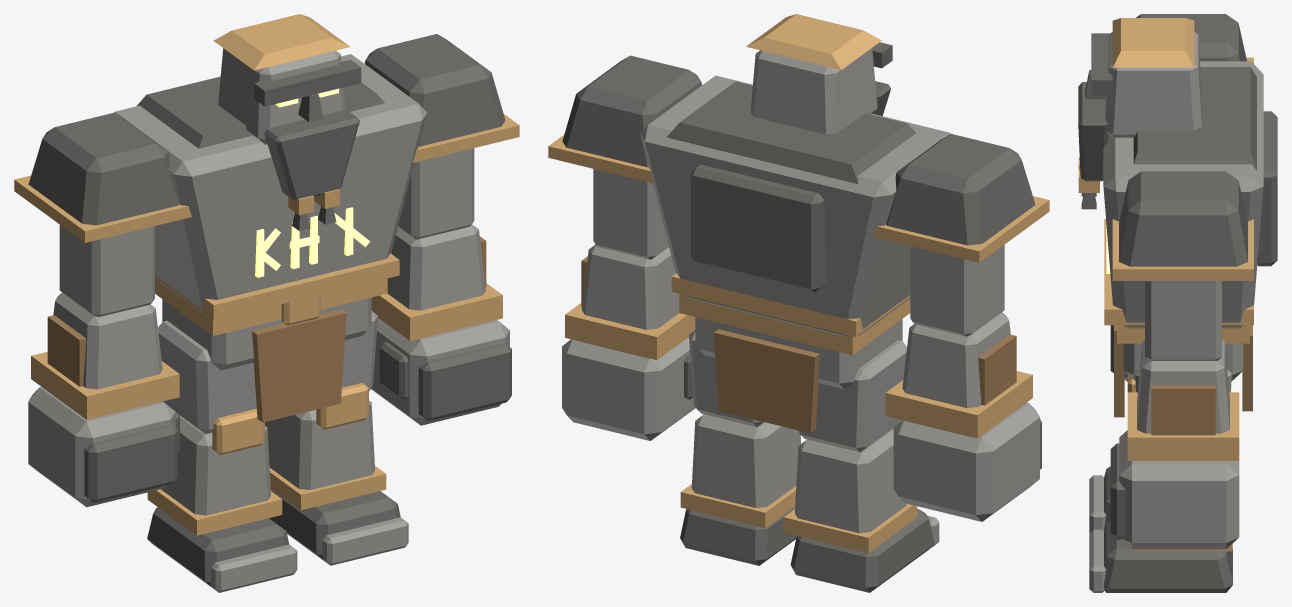
Rendered from cr-warden.glb.
The picture shows the model from 3 angles, left to right: view 1: azimuth 30°, elevation 25°; view 2: azimuth 150°, elevation 25°; view 3: azimuth 270°, elevation 25°; orthographic projection.
Visible parts, largest first — view 1: torso, upper_arm_r, head, upper_arm_l, pelvis, fist_r, forearm_r, fist_l, shin_r, forearm_l, shin_l, foot_r (+4 smaller); view 2: torso, upper_arm_r, pelvis, upper_arm_l, head, forearm_r, fist_r, shin_r, fist_l, forearm_l, shin_l, thigh_r (+3 smaller); view 3: upper_arm_l, torso, head, fist_l, forearm_l, foot_l, pelvis, upper_arm_r, foot_r, shin_l.
Part boxes in pixels (x1,y1,x2,y2): torso: (114, 54, 426, 320); upper_arm_r: (14, 112, 191, 317); head: (213, 14, 361, 230); upper_arm_l: (364, 34, 519, 239); pelvis: (155, 278, 387, 422); fist_r: (28, 387, 179, 507); forearm_r: (31, 292, 179, 419); fist_l: (371, 318, 511, 425); shin_r: (147, 408, 282, 535); forearm_l: (371, 224, 502, 340); shin_l: (265, 383, 386, 510); foot_r: (147, 507, 297, 592); torso: (640, 75, 950, 336); upper_arm_r: (873, 134, 1049, 336); pelvis: (679, 294, 910, 433); upper_arm_l: (548, 55, 701, 259); head: (746, 14, 892, 134); forearm_r: (885, 312, 1032, 438); fist_r: (893, 402, 1041, 521); shin_r: (783, 428, 917, 553); fist_l: (562, 337, 695, 440); forearm_l: (565, 244, 695, 359); shin_l: (680, 414, 801, 527); thigh_r: (797, 340, 906, 452); upper_arm_l: (1112, 171, 1253, 360); torso: (1103, 61, 1277, 328); head: (1078, 18, 1201, 209); fist_l: (1110, 430, 1239, 549); forearm_l: (1127, 340, 1239, 460); foot_l: (1089, 520, 1232, 592); pelvis: (1114, 325, 1252, 417); upper_arm_r: (1136, 14, 1253, 63); foot_r: (1089, 466, 1110, 532); shin_l: (1134, 544, 1232, 551).
Size of what is drawn, in the model's own units: 2.34 by 2.64 by 0.9313.
